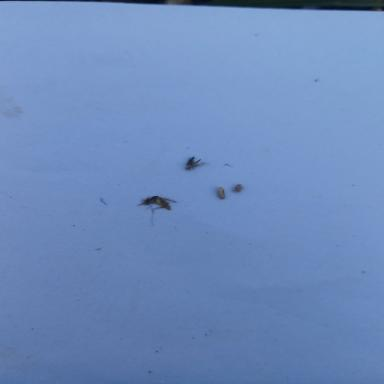pbw: (213, 185, 230, 201)
